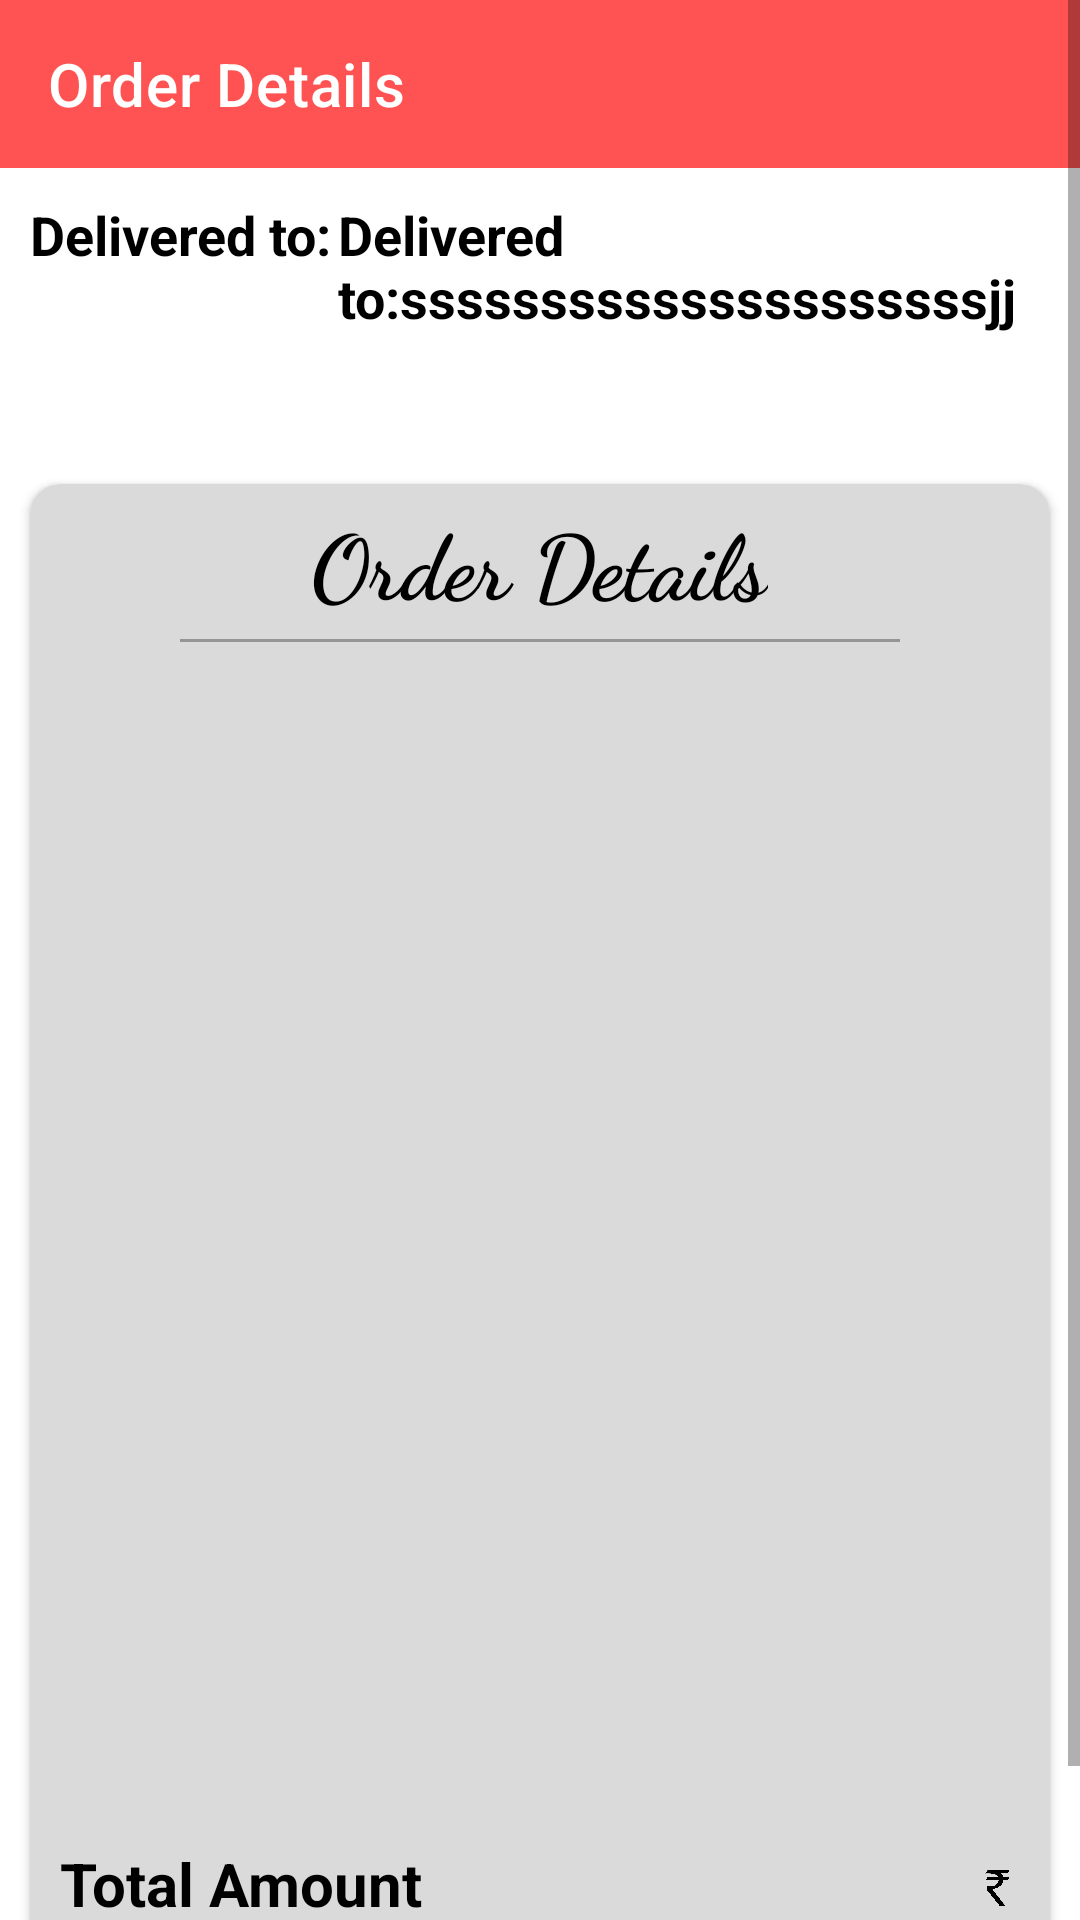

Icons on this 1080px x 1920px Android screen, each with its box as bbox=(x1, y1, x2, y2):
rupee im: bbox=(985, 1870, 1009, 1906)
